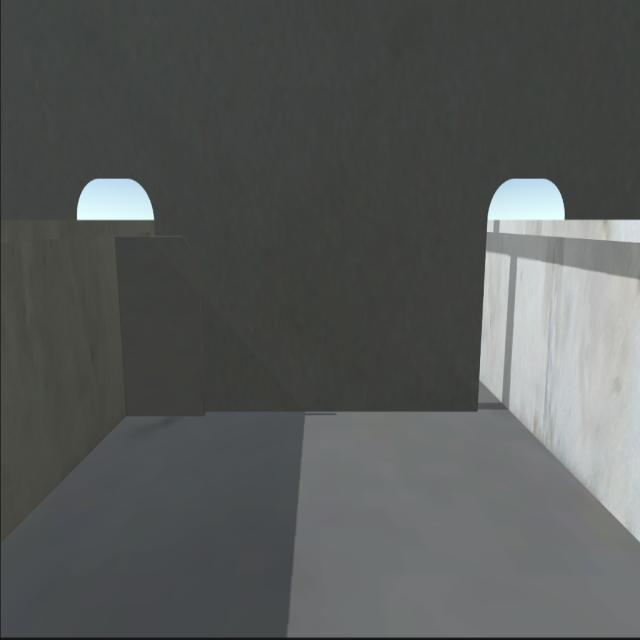fillet_yong_jeop_jang: (121, 400, 479, 425)
longi_yong_jeop_jang: (108, 239, 140, 418)
plate_CP03: (117, 231, 210, 413)
